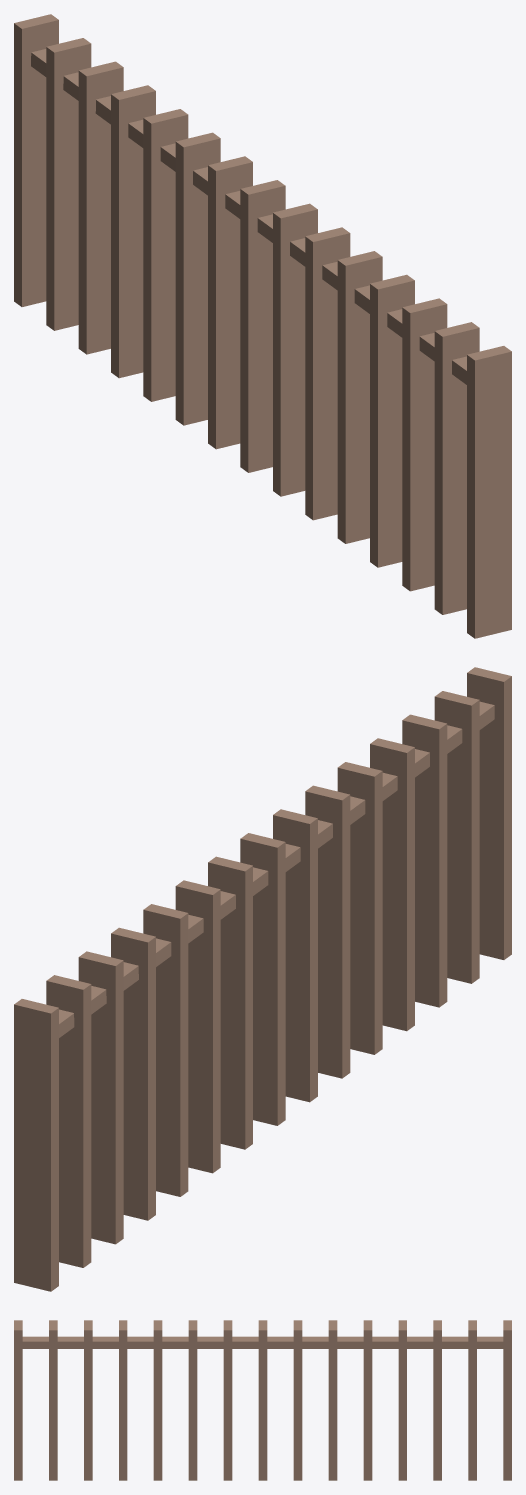
Rendered from fence.fbx.
3 renders of one model, top to bottom at view 1: azimuth 30°, elevation 25°; view 2: azimuth 150°, elevation 25°; view 3: azimuth 270°, elevation 25°, orthographic. The views are drawn at different scales.
Parts seen in each view (by area): view 1: polySurface13; view 2: polySurface13; view 3: polySurface13.
Boxes of the visible parts, bbox=[...] form: polySurface13: bbox=[14, 14, 511, 638]; polySurface13: bbox=[14, 667, 511, 1291]; polySurface13: bbox=[14, 1320, 511, 1480].
Size of the model in its own units: 1.15 by 8.27 by 24.82.
